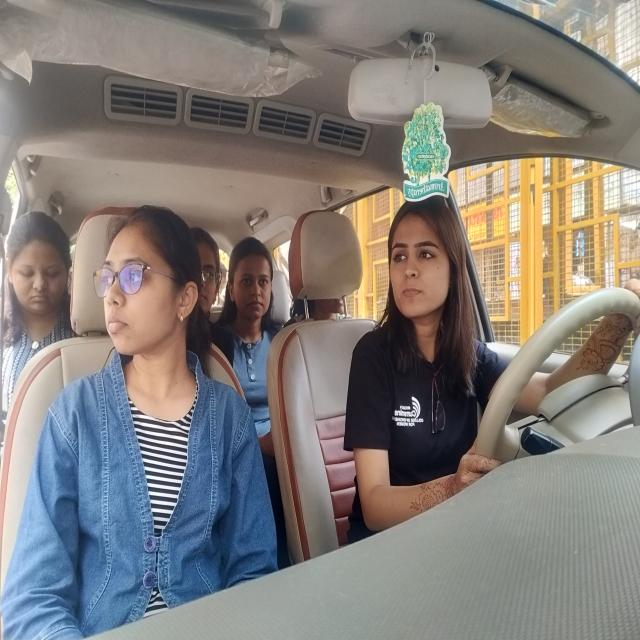LeftRight: (389, 207, 468, 317)
person: (99, 203, 201, 351), (8, 214, 72, 320), (236, 233, 275, 324), (190, 222, 223, 314), (295, 294, 352, 320)
